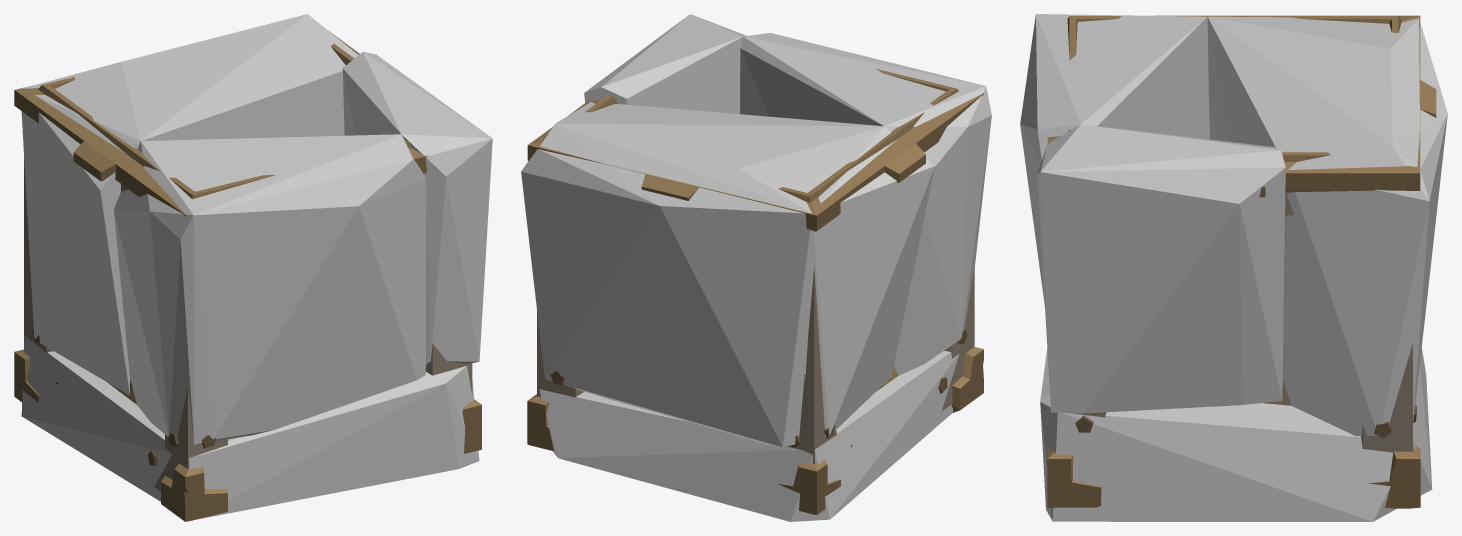
The model's file is SM_Prop_Crate_07.fbx.
The picture shows the model from 3 angles, left to right: view 1: azimuth 30°, elevation 25°; view 2: azimuth 150°, elevation 25°; view 3: azimuth 270°, elevation 25°; orthographic projection. The views are drawn at different scales.
Parts seen in each view (by area): view 1: SM_Prop_Crate_07_ConvexHulls, SM_Prop_Crate_07; view 2: SM_Prop_Crate_07_ConvexHulls, SM_Prop_Crate_07; view 3: SM_Prop_Crate_07_ConvexHulls, SM_Prop_Crate_07.
Boxes of the visible parts, x1,y1,x2,y2 form: SM_Prop_Crate_07_ConvexHulls: (20,14,492,519); SM_Prop_Crate_07: (14,31,481,521); SM_Prop_Crate_07_ConvexHulls: (521,14,991,521); SM_Prop_Crate_07: (527,69,983,515); SM_Prop_Crate_07_ConvexHulls: (1020,14,1447,521); SM_Prop_Crate_07: (1047,15,1436,508).
Size of the model in its own units: 98.02 by 99.57 by 94.22.
2 materials, 1 textured.
